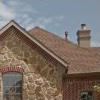Chimney: (68, 16, 93, 46)
